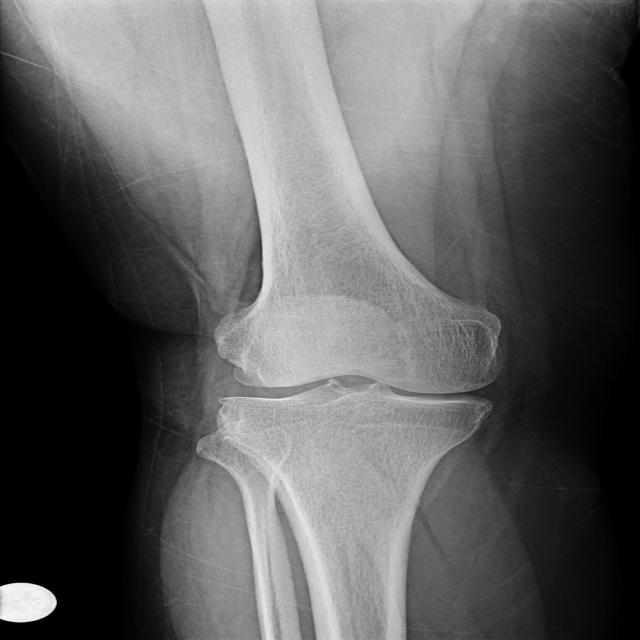osteo: (207, 301, 516, 433)
